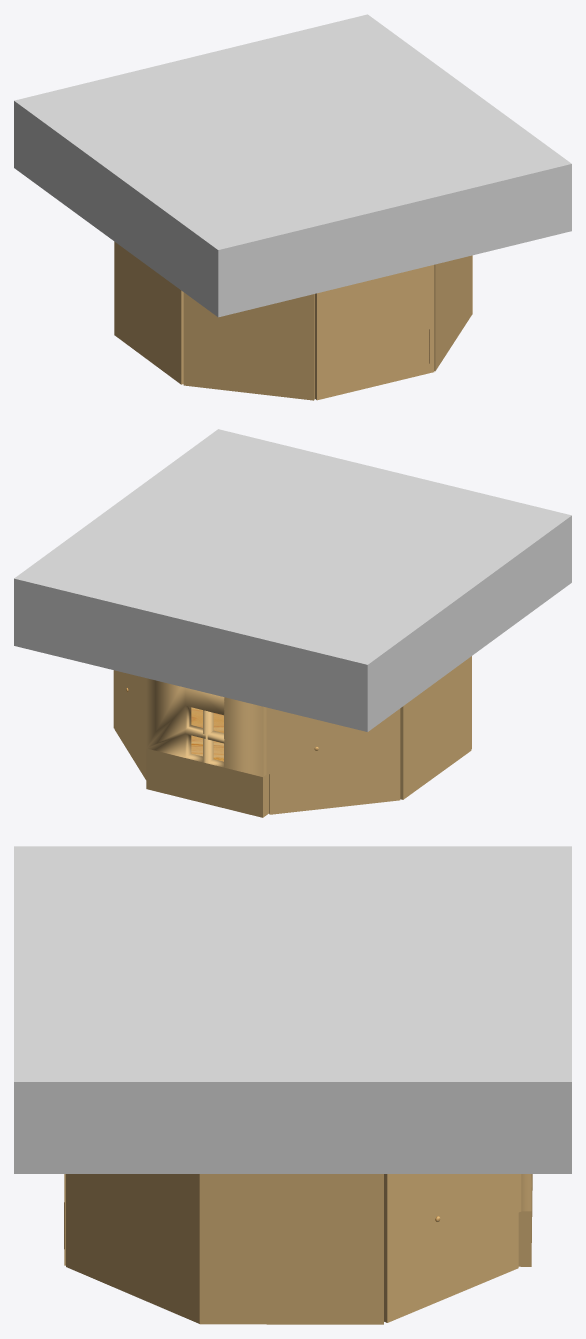
File: PeterPan.fbx
The picture shows the model from 3 angles, top to bottom: view 1: azimuth 30°, elevation 25°; view 2: azimuth 150°, elevation 25°; view 3: azimuth 270°, elevation 25°; orthographic projection. The views are drawn at different scales.
Visible parts, largest first — view 1: Cube.002, 円; view 2: Cube.002, 円; view 3: Cube.002, 円.
Boxes of the visible parts, <box> form: Cube.002: <box>14,14,571,317</box>; 円: <box>114,241,472,400</box>; Cube.002: <box>14,429,571,731</box>; 円: <box>113,656,471,817</box>; Cube.002: <box>14,846,571,1173</box>; 円: <box>64,1174,532,1324</box>.
Size of the model in its own units: 799 by 416 by 799.
